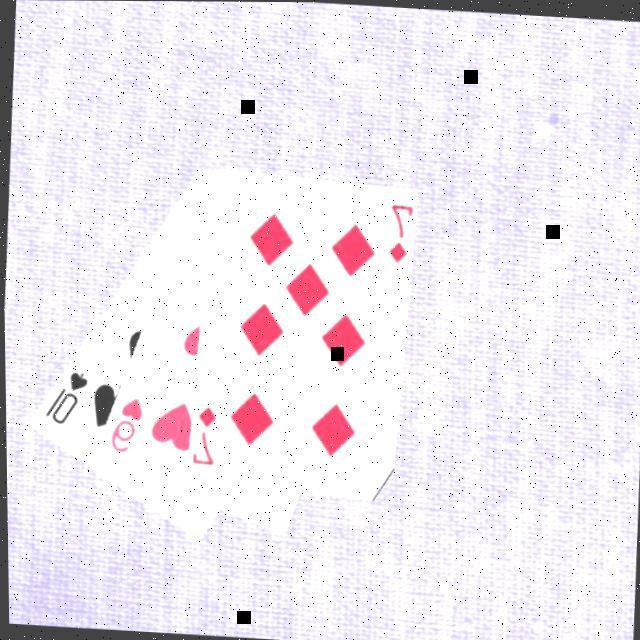10S: (41, 367, 93, 430)
6H: (106, 394, 148, 458)
7D: (191, 403, 221, 470), (385, 202, 413, 267)
